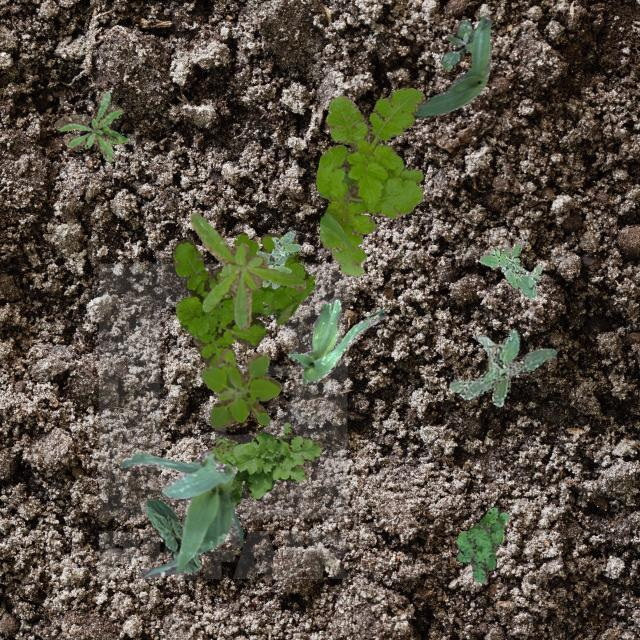crop: (120, 449, 242, 578), (288, 296, 382, 384), (412, 15, 490, 116), (144, 498, 200, 572)
weed: (314, 87, 424, 276), (172, 230, 314, 366), (188, 212, 304, 330), (205, 422, 322, 504), (448, 328, 556, 406), (198, 348, 280, 428), (52, 90, 126, 160), (456, 507, 508, 582), (478, 242, 542, 298), (256, 230, 300, 288), (440, 18, 474, 68)
